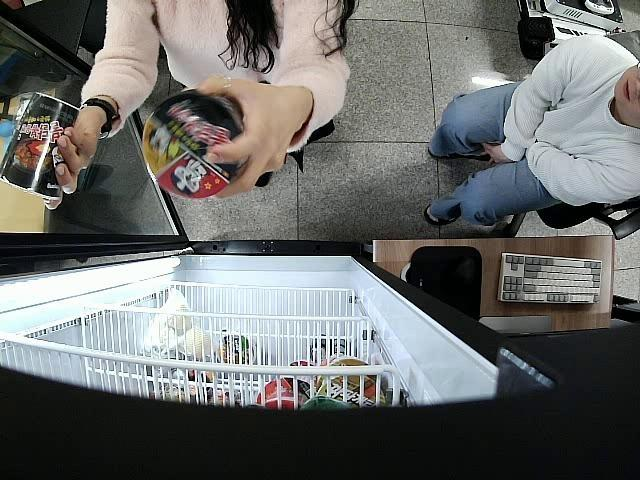08_buldak_S: (142, 88, 248, 198), (0, 90, 81, 202)
